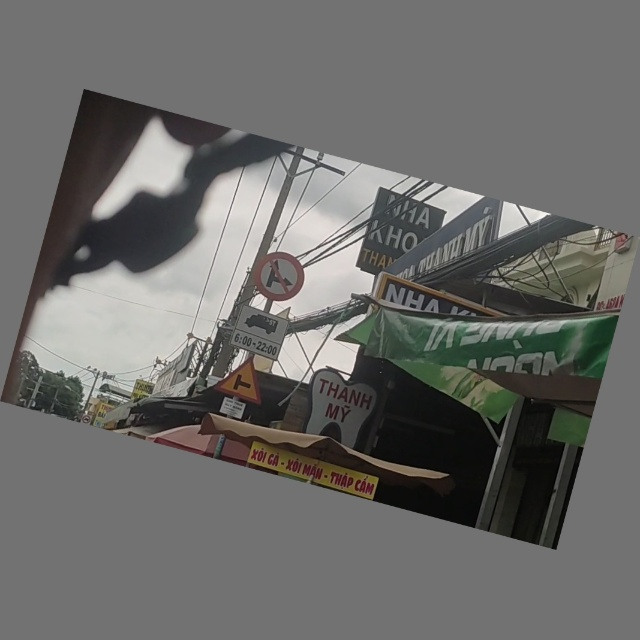P.139: (251, 247, 310, 306)
S.505a*Xe tai: (230, 306, 289, 360)
W.205b: (215, 352, 271, 405)
